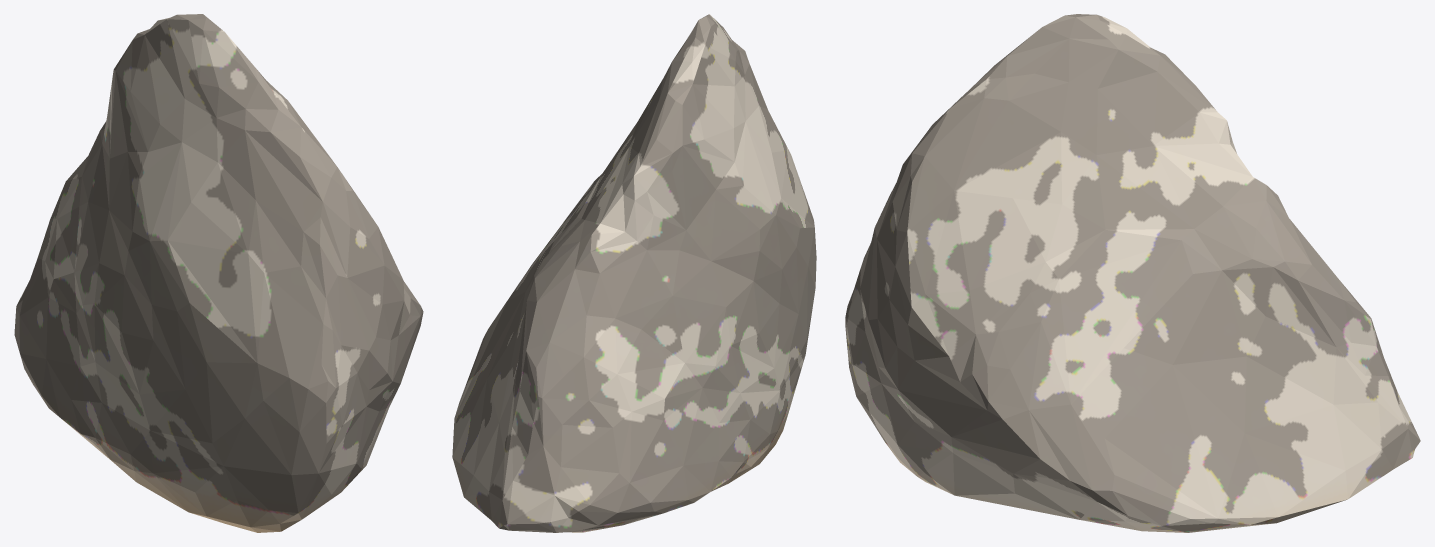
The model's file is RockGrayE.fbx.
3 renders of one model, left to right at view 1: azimuth 30°, elevation 25°; view 2: azimuth 150°, elevation 25°; view 3: azimuth 270°, elevation 25°, orthographic. The views are drawn at different scales.
Visible parts, largest first — view 1: RockGrayE; view 2: RockGrayE; view 3: RockGrayE.
Part boxes in pixels (box(x1,y1,x2,y2)): RockGrayE: box(14, 14, 423, 532); RockGrayE: box(452, 14, 816, 532); RockGrayE: box(845, 14, 1420, 532).
Bounding box in the file's own units: 1.73 × 2.67 × 3.
1 material, 1 textured.
